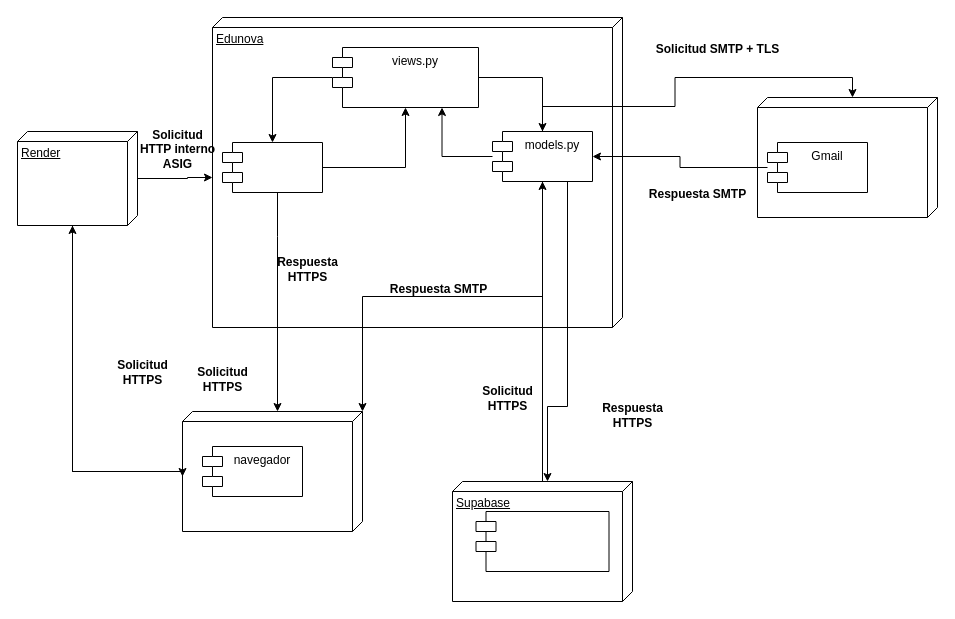
Some shapes in this 955 by 619 pixel diagram are drawn without their labels. The shapes that lost their labels are listed below. From the top down, each one's box as (x1, y1, x2, y2) in pixels, then its label:
(222, 142, 322, 192): vistas
(756, 96, 938, 218): Google
(182, 410, 362, 532): Dispositivo usuario
(475, 510, 609, 572): Edunova_project
